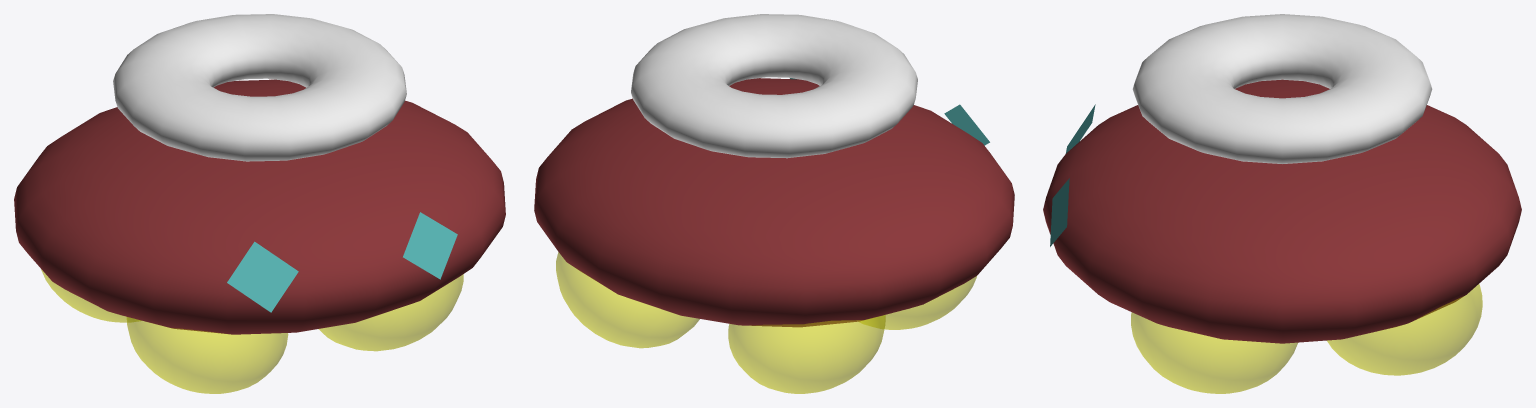
Rendered from Enemy.fbx.
3 views of the same model, side by side, from view 1: azimuth 30°, elevation 25°; view 2: azimuth 150°, elevation 25°; view 3: azimuth 270°, elevation 25° (orthographic). The views are drawn at different scales.
Visible parts, largest first — view 1: pSphere3; view 2: pSphere3; view 3: pSphere3.
Boxes of the visible parts, left/top/right/bottom form: pSphere3: left=14, top=14, right=505, bottom=393; pSphere3: left=534, top=14, right=1014, bottom=393; pSphere3: left=1043, top=14, right=1521, bottom=393.
Size of the model in its own units: 6.25 by 3.79 by 5.86.
